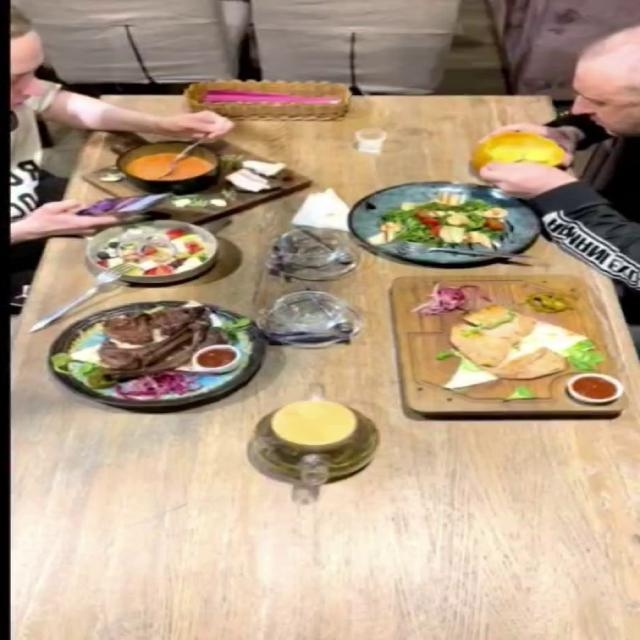meat: (385, 273, 627, 423), (47, 300, 268, 407)
salad: (349, 181, 543, 264), (83, 219, 220, 284)
soup: (78, 136, 313, 225), (472, 130, 565, 174)
tea: (227, 366, 391, 506)
